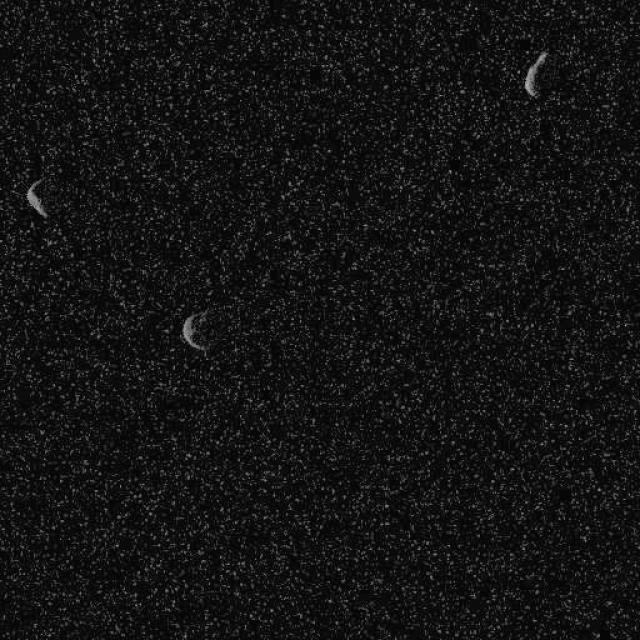D2: (180, 308, 214, 352), (522, 48, 548, 98), (25, 176, 47, 219)
